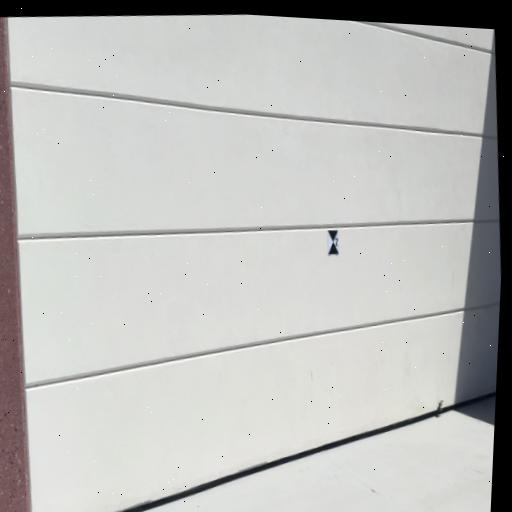target7: (328, 230, 340, 254)
